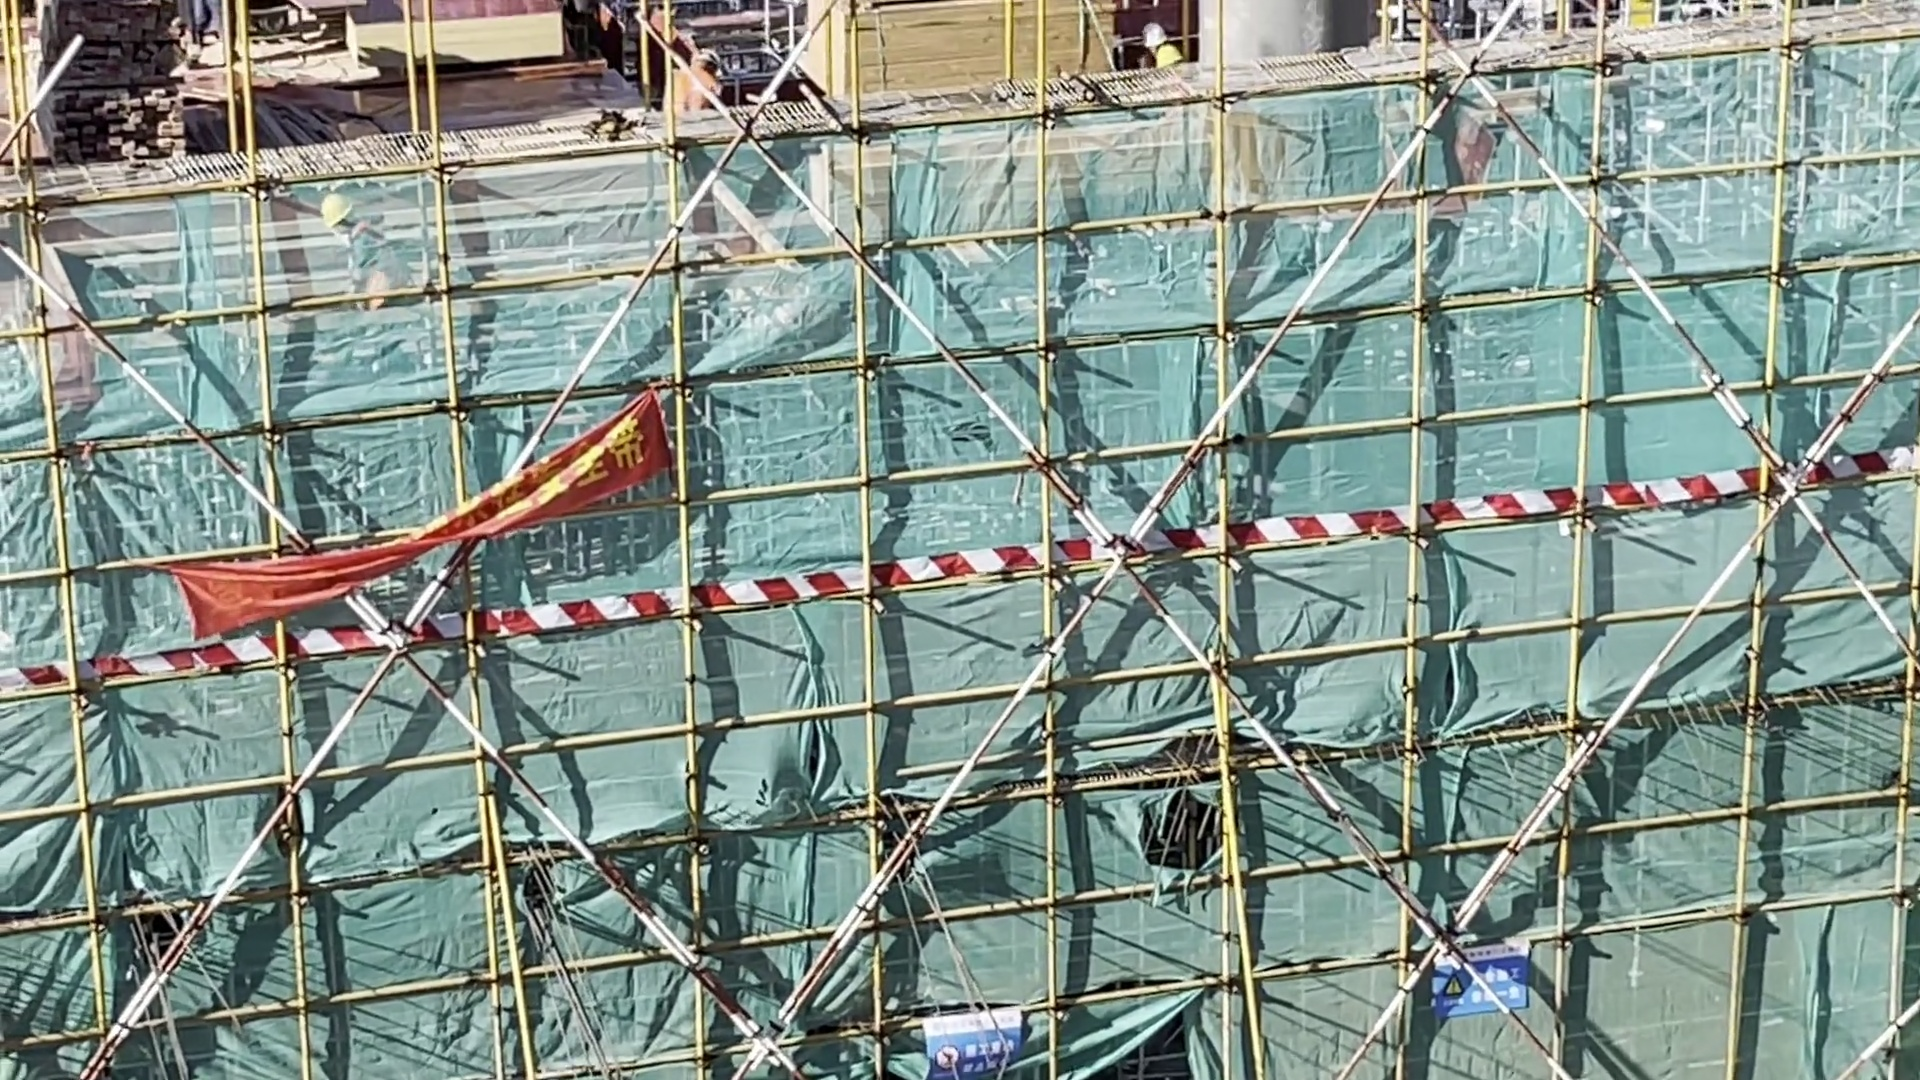board: (398, 1, 573, 59)
helmet: (319, 196, 352, 222), (695, 49, 725, 70), (1157, 48, 1180, 69), (1149, 30, 1169, 50)
person: (308, 196, 433, 360), (649, 47, 730, 165)
slogan: (225, 422, 659, 621), (1434, 946, 1528, 1025), (915, 1018, 1030, 1076)
vest: (351, 235, 411, 310), (670, 75, 712, 113)
wood: (772, 149, 1271, 236), (813, 7, 1124, 93), (59, 80, 191, 155), (65, 1, 165, 87)
